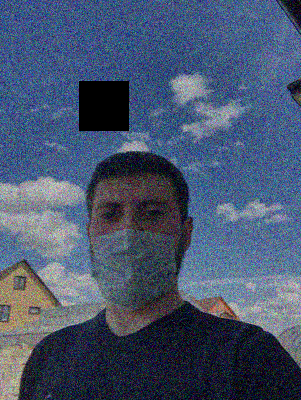with_mask: (89, 192, 180, 312)
